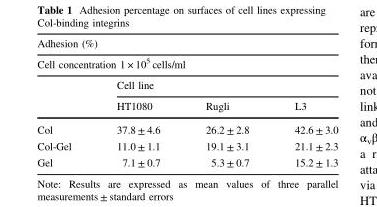table: (36, 36, 337, 167)
table column: (93, 36, 182, 167), (182, 36, 271, 167), (271, 36, 337, 167), (36, 36, 93, 167)
table column header: (36, 36, 337, 116)
table row: (36, 94, 337, 116), (36, 52, 337, 73), (36, 73, 337, 94), (36, 116, 337, 136), (36, 136, 337, 153), (36, 36, 337, 52), (36, 153, 337, 167)
table spanning cell: (36, 36, 337, 73), (93, 73, 337, 94)
